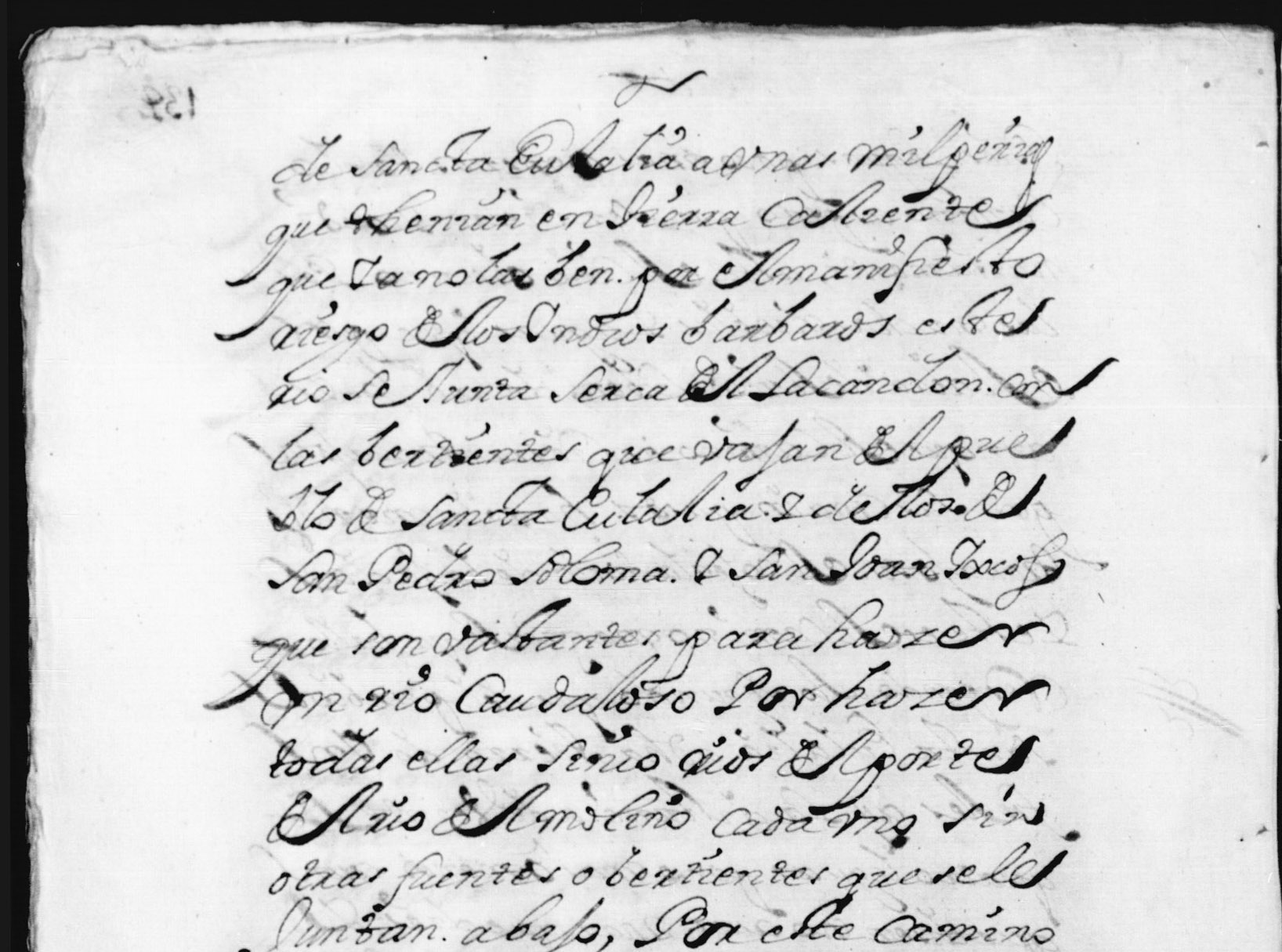lacandon: (747, 349, 982, 401)
